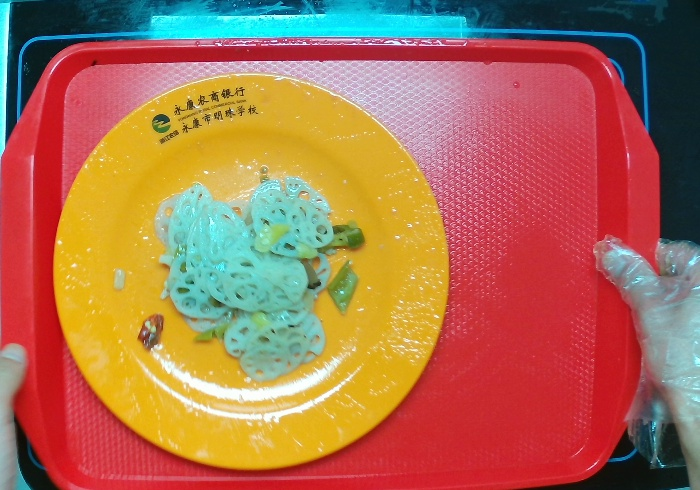YKMZ-Ju_Se_Mian_Pan: (50, 70, 451, 471)
